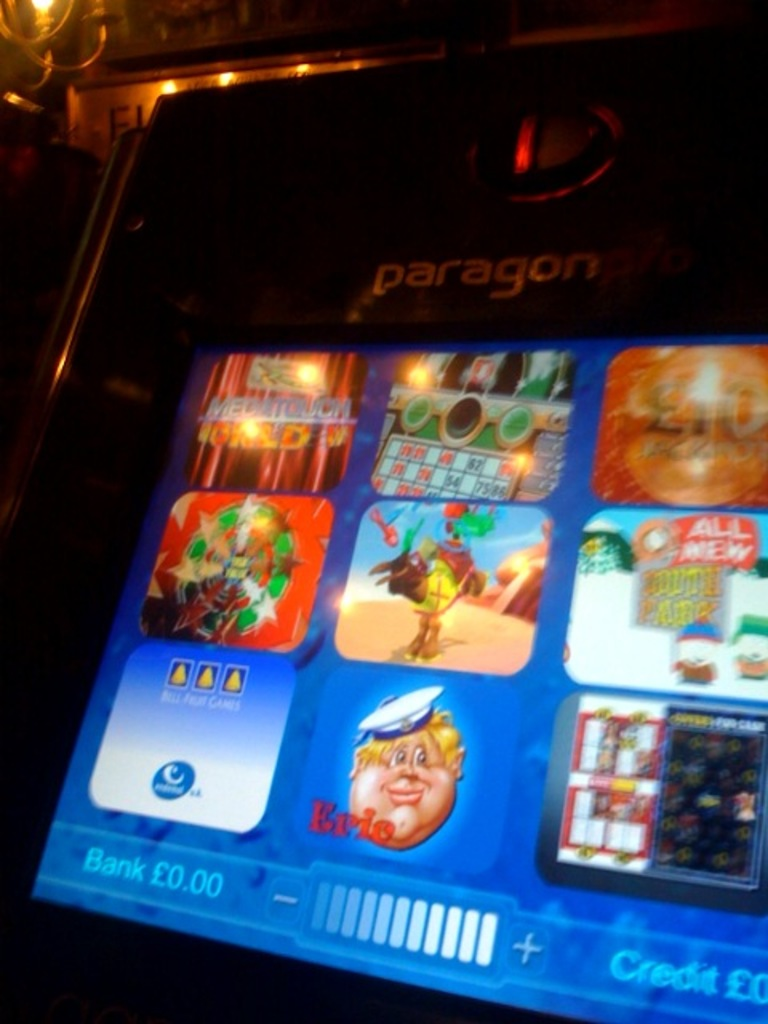face: (348, 704, 462, 847)
